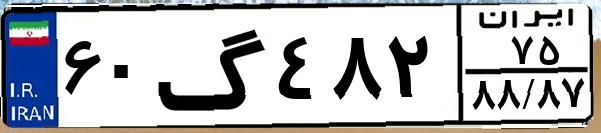0: (110, 28, 156, 98)
2: (385, 28, 445, 110)
4: (270, 28, 330, 110)
5: (537, 27, 568, 80)
6: (57, 26, 110, 100)
7: (560, 70, 590, 125), (508, 27, 537, 80)
8: (330, 28, 385, 110), (470, 70, 495, 125), (495, 70, 520, 125), (535, 70, 560, 125)
گ: (156, 12, 270, 120)
